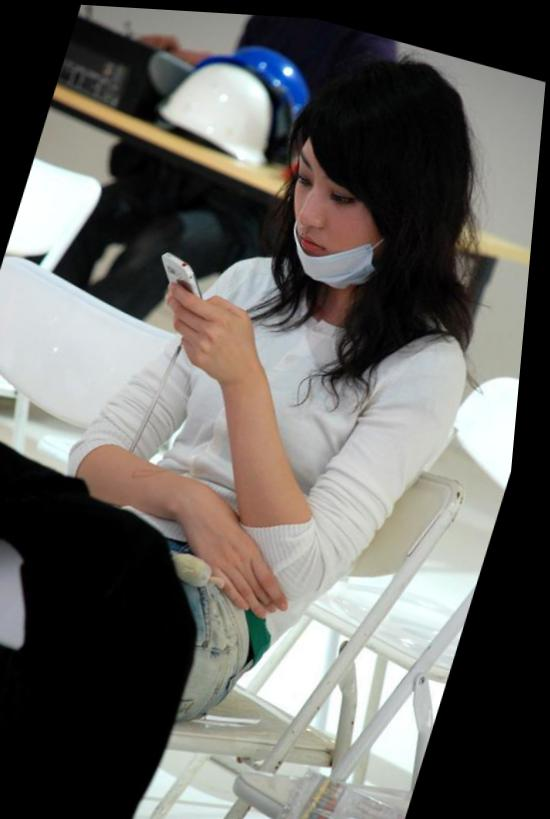WRONG: (271, 133, 412, 290)
